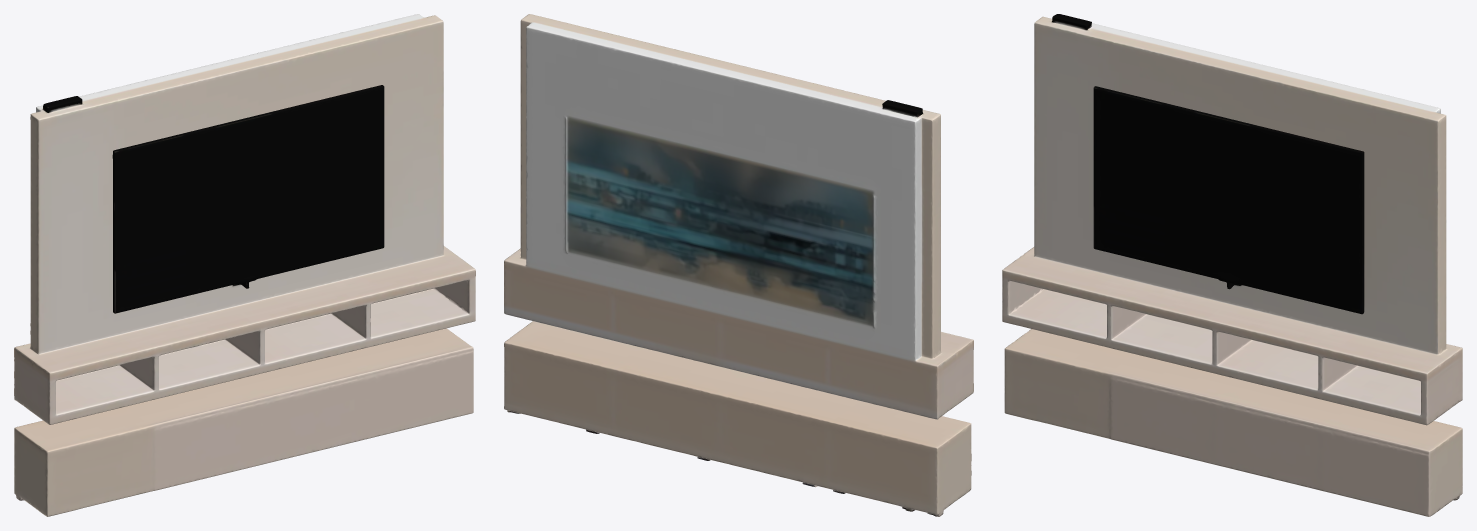
The model's file is televisionWalls.glb.
The picture shows the model from 3 angles, left to right: view 1: azimuth 30°, elevation 25°; view 2: azimuth 150°, elevation 25°; view 3: azimuth 330°, elevation 25°; orthographic projection. The views are drawn at different scales.
Parts seen in each view (by area): view 1: world; view 2: world; view 3: world.
Part boxes in pixels (left/top/right/bottom): world: left=14, top=14, right=475, bottom=516; world: left=504, top=14, right=973, bottom=516; world: left=1002, top=14, right=1462, bottom=516.
Bounding box in the file's own units: 1 × 0.879 × 0.1486.
Materials: 1 (1 with a texture image).
